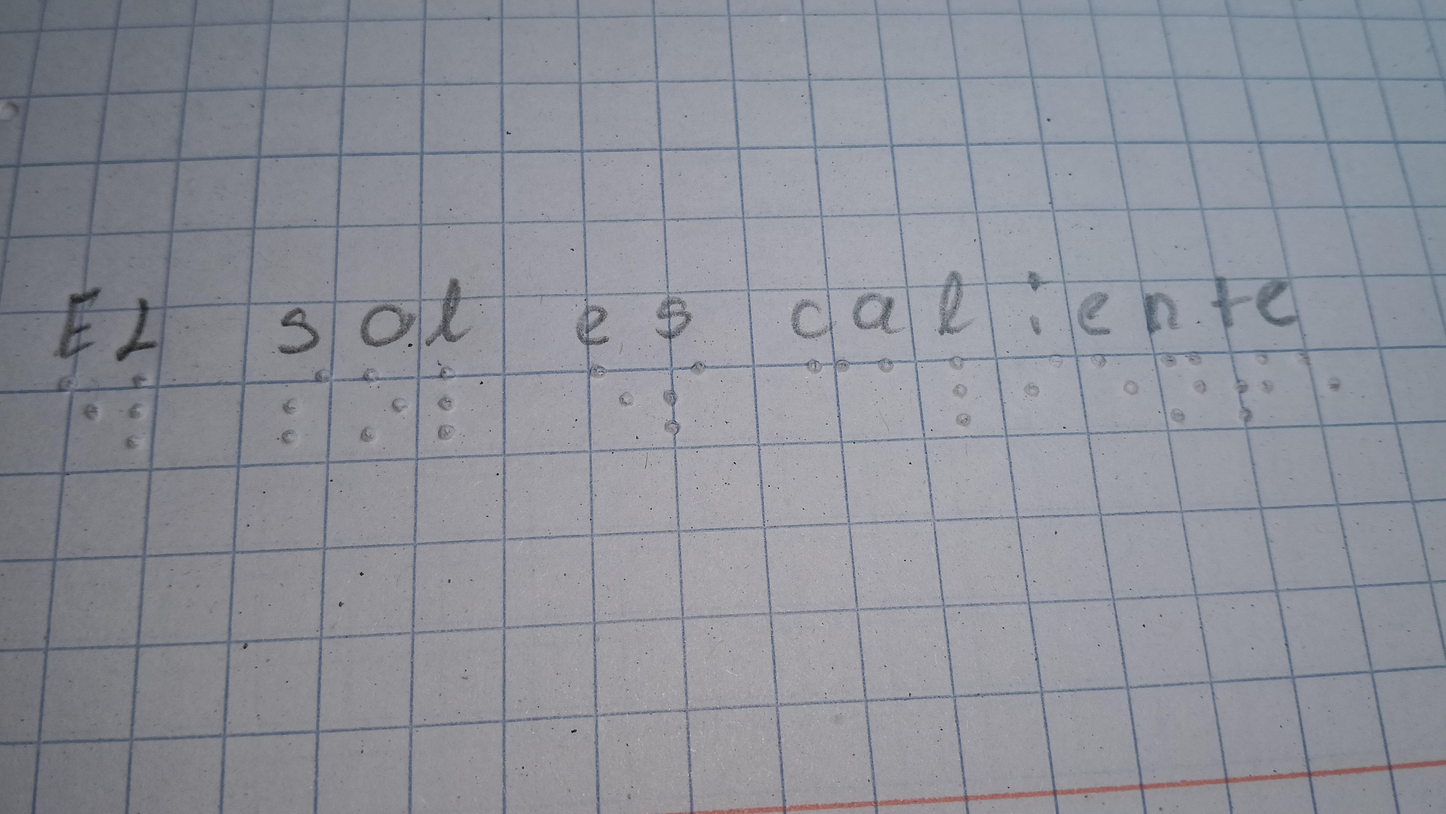a: (859, 339, 913, 386)
c: (794, 346, 858, 388)
e: (1281, 339, 1354, 409), (583, 349, 638, 424), (51, 370, 108, 433), (1086, 342, 1139, 402)
i: (1012, 346, 1081, 397)
l: (120, 370, 188, 457), (937, 355, 991, 441), (427, 353, 470, 445)
n: (1159, 346, 1219, 433)
o: (353, 363, 415, 450)
s: (257, 367, 337, 456), (654, 355, 721, 440)
t: (1230, 346, 1281, 433)
